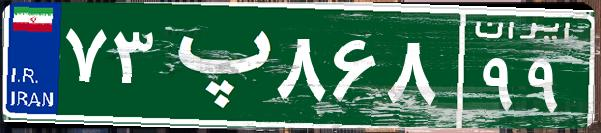3: (110, 28, 158, 105)
6: (330, 28, 385, 110)
7: (57, 26, 110, 107)
8: (385, 28, 445, 110), (273, 28, 330, 110)
9: (475, 38, 525, 113), (525, 38, 570, 115)
پ: (158, 15, 273, 115)
